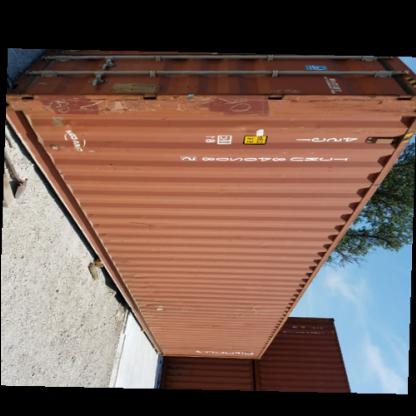Damage: (32, 84, 267, 122), (140, 294, 178, 314), (233, 305, 250, 322)
